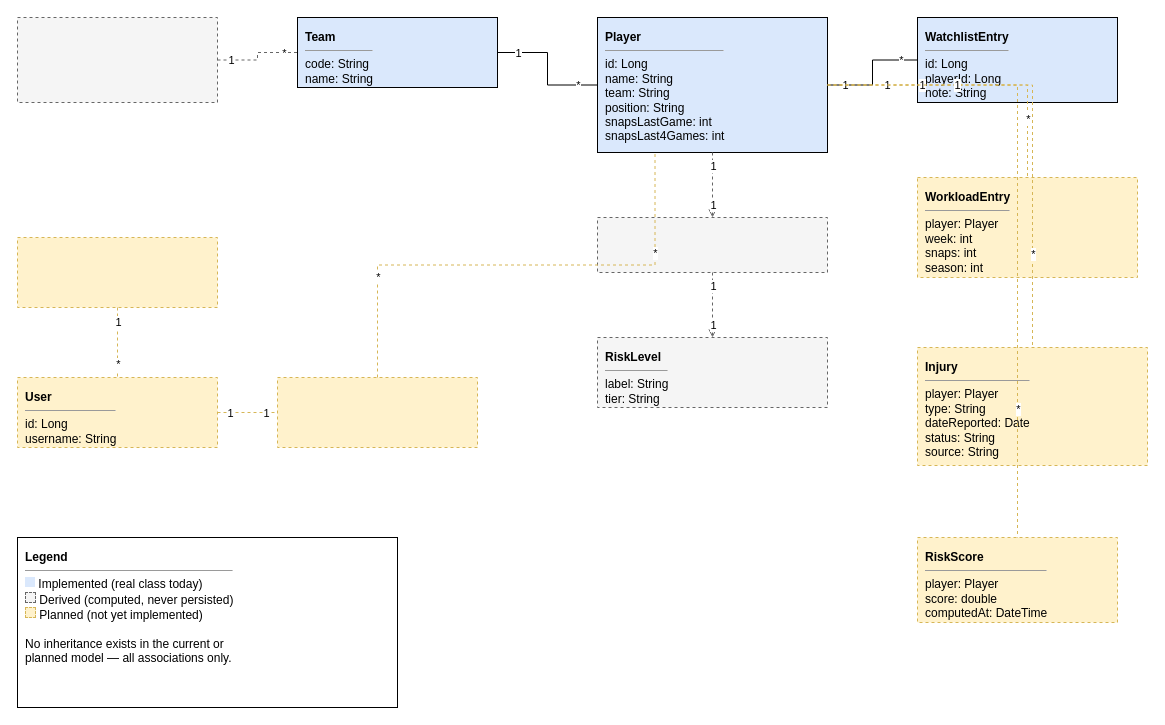
Image size: 1165x725. Some labels were removed from this diagram. The box of each missing label's shape, as (x1, y1, x2, y2) in pixels:
Division / Conference conference: String division: String teams: Team[]: (16, 16, 218, 102)
League id: Long name: String: (16, 236, 218, 308)
Roster id: Long user: User: (276, 376, 478, 448)
WorkloadRatio (ACWR) value: double: (596, 216, 828, 272)
